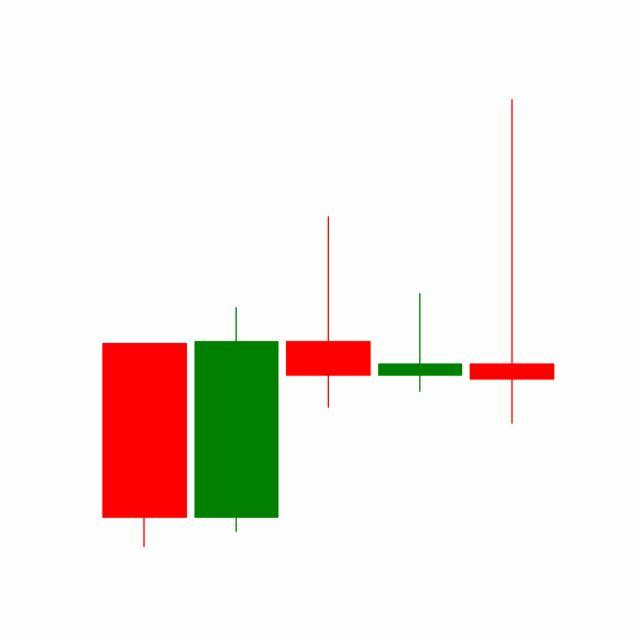Spinning Top: (374, 293, 468, 394)
